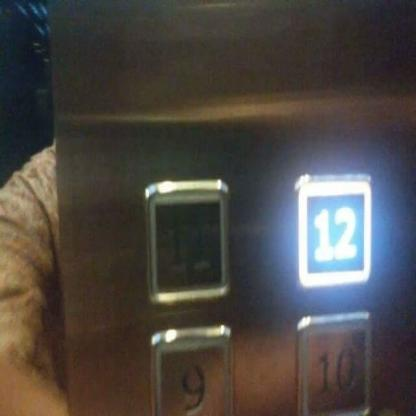10: (292, 311, 370, 415)
12: (293, 172, 373, 290)
9: (147, 323, 236, 415)
blur: (144, 177, 232, 304)
